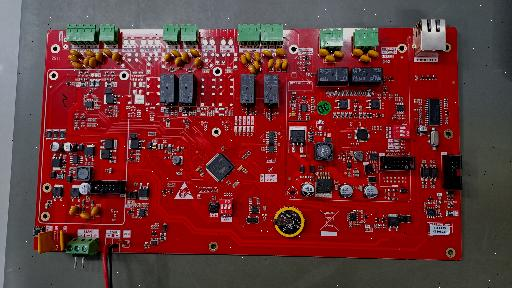var: (37, 230, 58, 254), (60, 229, 66, 251), (79, 211, 91, 220), (194, 56, 202, 68), (70, 49, 82, 57), (91, 206, 100, 216), (69, 206, 79, 215), (181, 52, 189, 63), (113, 52, 121, 63), (68, 55, 80, 62), (72, 62, 84, 69), (171, 50, 181, 58), (353, 48, 363, 56), (190, 48, 200, 56), (319, 48, 329, 56), (253, 52, 261, 62), (249, 64, 257, 74), (95, 52, 103, 62), (89, 57, 97, 67), (333, 51, 344, 58), (360, 55, 371, 62), (164, 52, 171, 63), (85, 50, 96, 57), (276, 48, 285, 56), (103, 48, 112, 56), (325, 55, 335, 62), (175, 57, 182, 67), (368, 50, 378, 57), (241, 55, 248, 65), (245, 51, 252, 61), (253, 60, 260, 70), (275, 59, 281, 70), (268, 58, 274, 69), (83, 56, 89, 67), (263, 50, 272, 57), (282, 59, 287, 70)
